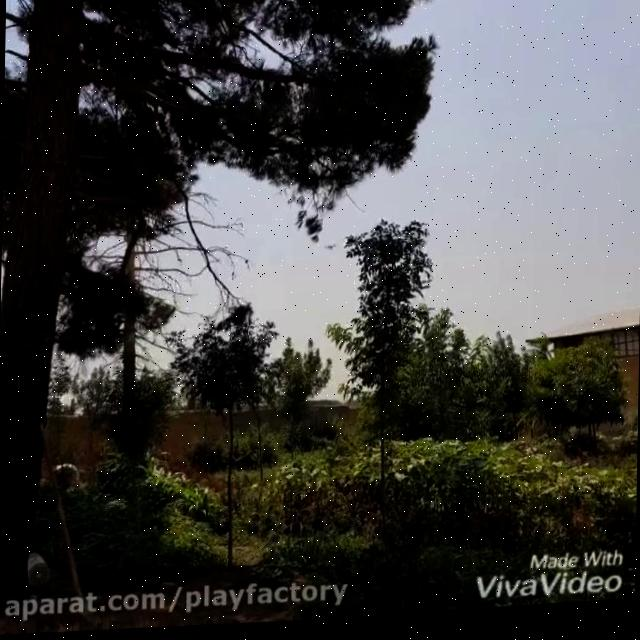drone: (322, 243, 336, 254)
